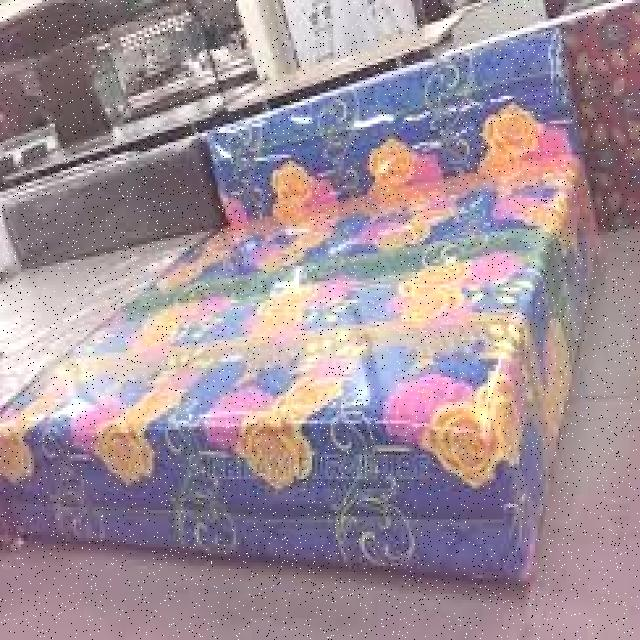bed: (0, 40, 588, 554)
